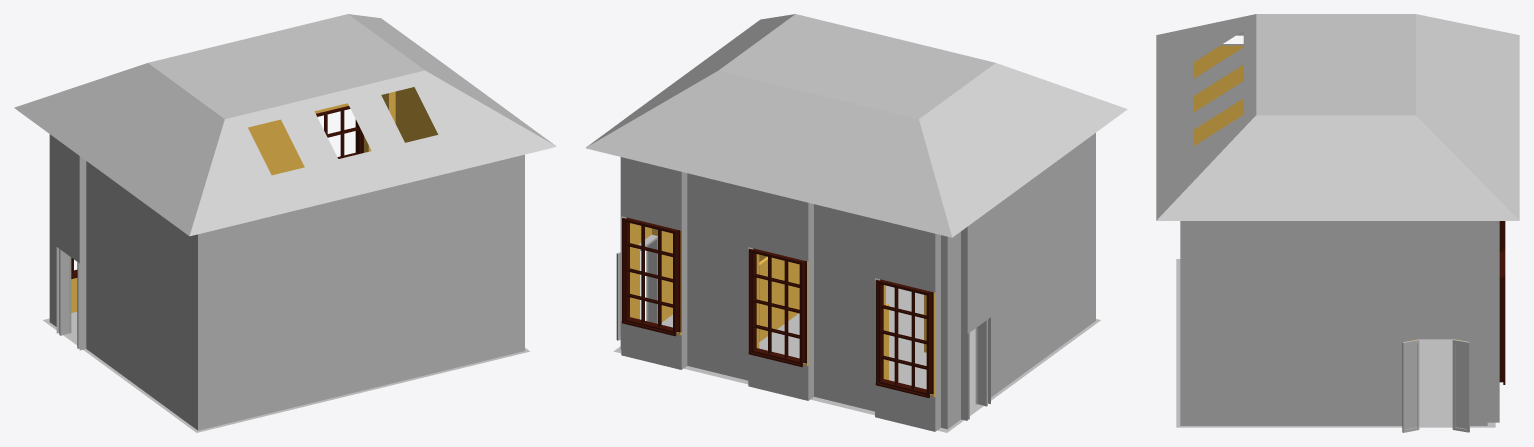
File: room.obj
3 views of the same model, side by side, from view 1: azimuth 30°, elevation 25°; view 2: azimuth 150°, elevation 25°; view 3: azimuth 270°, elevation 25° (orthographic). The views are drawn at different scales.
Parts seen in each view (by area): view 1: Wall_Outside_11, roof_out_2, Wall_Inside_10, Floor_5, Door_I_n, Window1_W1, roof_1; view 2: Wall_Outside_11, roof_out_2, Floor_5, Window2_W2, Window3_W3, Window1_W1, Wall_Inside_10, partition_3_8, Door_o_ut, Door_I_n, roof_1; view 3: roof_out_2, Wall_Outside_11, Floor_5, Door_o_ut, Wall_Inside_10, Window1_W1, roof_1.
Boxes of the visible parts, x1,y1,x2,y2 form: Wall_Outside_11: (49, 134, 524, 430); roof_out_2: (14, 14, 556, 235); Wall_Inside_10: (71, 87, 438, 312); Floor_5: (43, 312, 529, 432); Door_I_n: (59, 249, 79, 348); Window1_W1: (316, 106, 363, 158); roof_1: (14, 86, 556, 236); Wall_Outside_11: (620, 133, 1095, 431); roof_out_2: (586, 14, 1127, 237); Floor_5: (613, 285, 1100, 432); Window2_W2: (748, 248, 806, 366); Window3_W3: (875, 279, 933, 397); Window1_W1: (622, 217, 681, 336); Wall_Inside_10: (630, 223, 935, 396); partition_3_8: (759, 256, 799, 341); Door_o_ut: (616, 234, 657, 340); Door_I_n: (967, 319, 987, 419); roof_1: (586, 109, 1127, 237); roof_out_2: (1156, 14, 1519, 220); Wall_Outside_11: (1180, 44, 1499, 425); Floor_5: (1176, 259, 1495, 427); Door_o_ut: (1402, 339, 1469, 432); Wall_Inside_10: (1193, 45, 1459, 340); Window1_W1: (1499, 249, 1505, 384); roof_1: (1156, 30, 1519, 220).
Size of the model in its own units: 1100 by 771 by 910.
